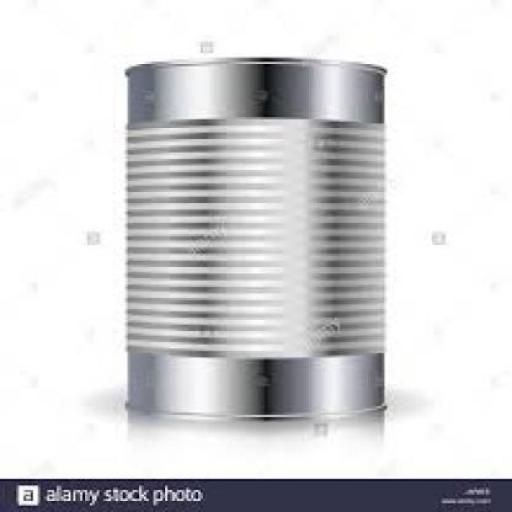metal: (118, 57, 387, 419)
